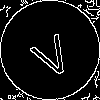V: (25, 25, 76, 81)
